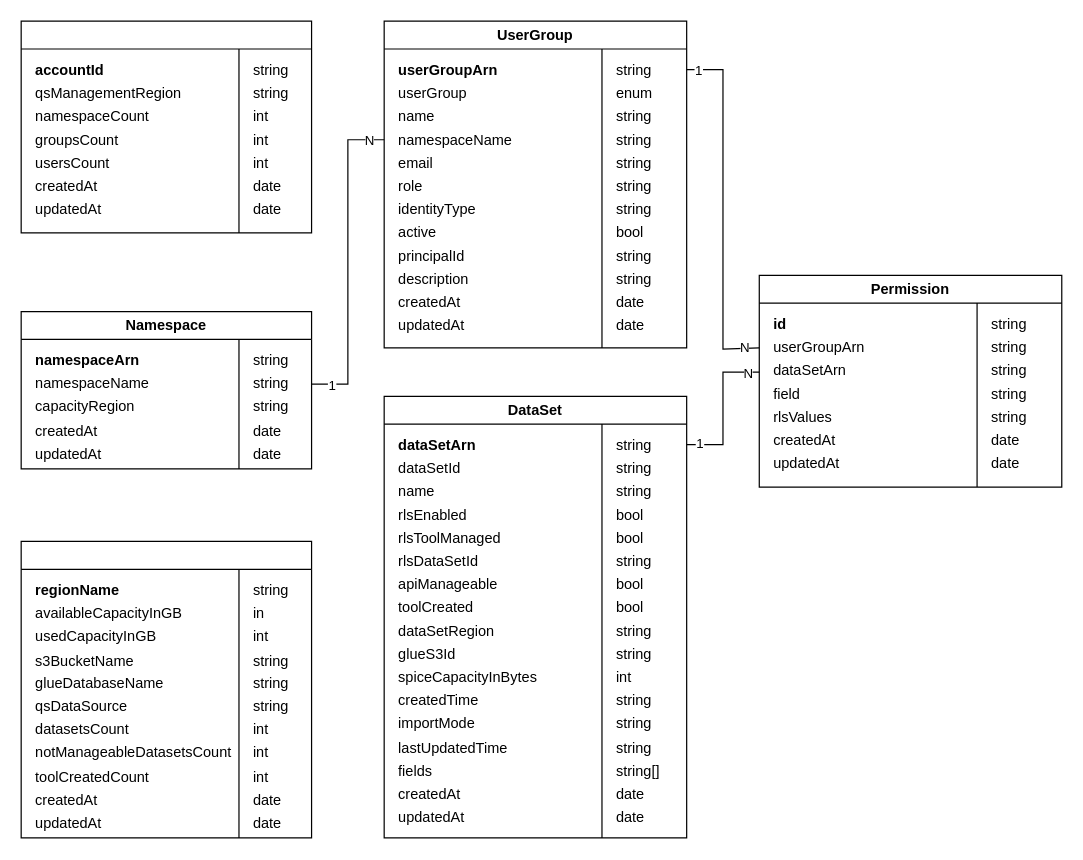
The diagram is 1083 pixels wide and 860 high, and some of its shapes have lost their labels. The box of each missing label's shape, as (x1, y1, x2, y2) in pixels:
AccountDetails: (20, 20, 312, 233)
ManagedRegion: (20, 540, 312, 838)
